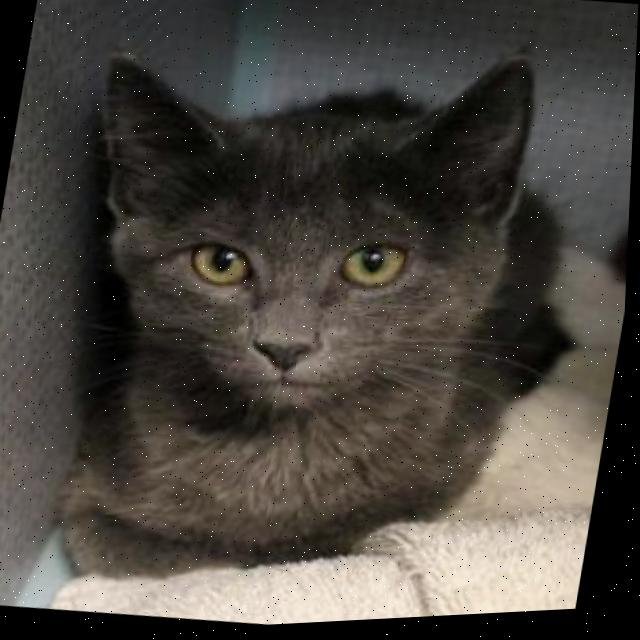Russian Blue: (19, 2, 626, 638)
